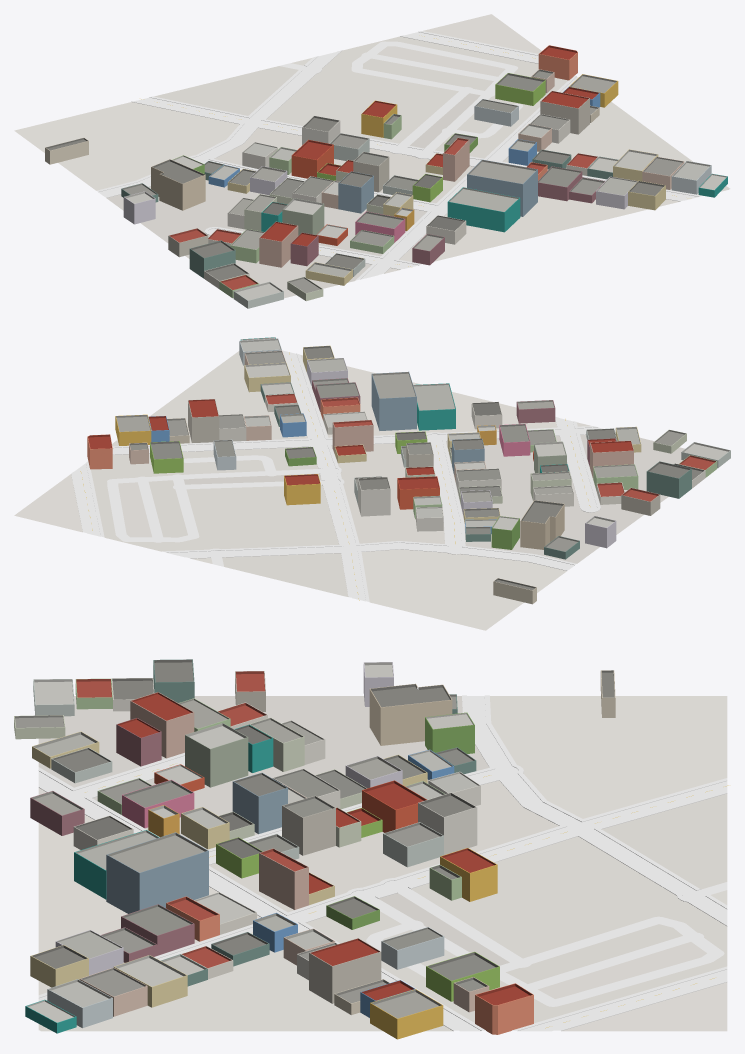
3 renders of one model, top to bottom at view 1: azimuth 30°, elevation 25°; view 2: azimuth 150°, elevation 25°; view 3: azimuth 270°, elevation 25°, orthographic. The views are drawn at different scales.
Visible parts, largest first — view 1: ground, walls, roofs, asphalt, sidewalk; view 2: ground, roofs, walls, asphalt, sidewalk; view 3: ground, walls, roofs, asphalt, sidewalk.
Part boxes in pixels (left/top/right/bottom): ground: left=14, top=14, right=729, bottom=298; walls: left=45, top=52, right=727, bottom=308; roofs: left=45, top=45, right=727, bottom=300; asphalt: left=99, top=32, right=698, bottom=279; sidewalk: left=97, top=31, right=730, bottom=280; ground: left=14, top=351, right=684, bottom=630; roofs: left=87, top=337, right=730, bottom=590; walls: left=87, top=341, right=730, bottom=604; asphalt: left=74, top=350, right=603, bottom=601; sidewalk: left=71, top=353, right=615, bottom=601; ground: left=38, top=696, right=727, bottom=1031; walls: left=14, top=661, right=615, bottom=1039; roofs: left=14, top=659, right=615, bottom=1023; asphalt: left=38, top=696, right=727, bottom=1031; sidewalk: left=38, top=695, right=727, bottom=1030.
Size of what is drawn, in the model's own units: 261 by 16.37 by 226.
